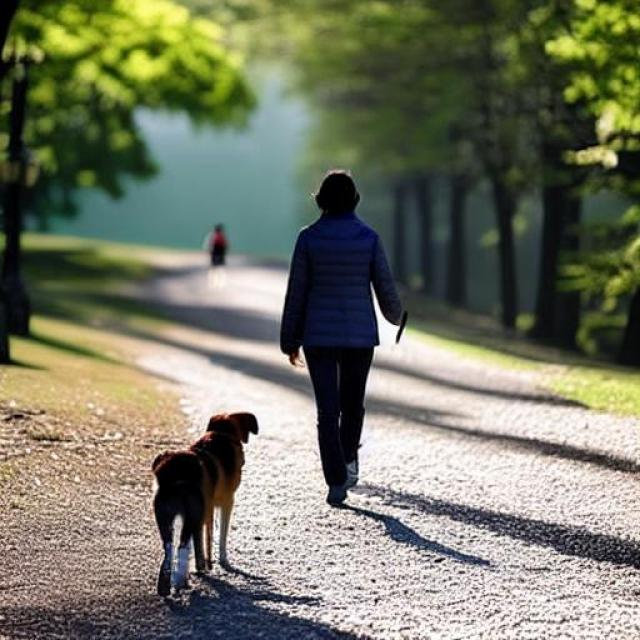Unleashed_Dog: (151, 347, 373, 597)
